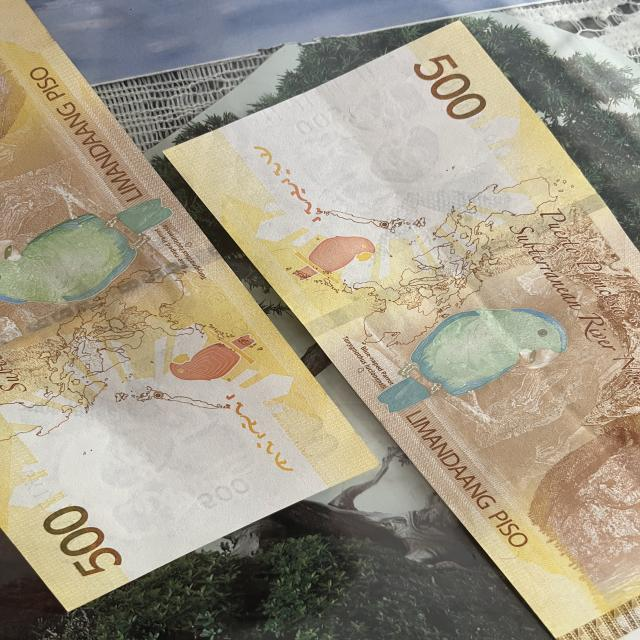500_big_parrot: (375, 304, 578, 413), (0, 198, 167, 308)
500_parrot_watermark: (166, 334, 255, 388), (291, 234, 383, 282)
value_watermark: (196, 474, 254, 511), (290, 105, 345, 136)
watermark: (54, 401, 268, 529), (286, 85, 464, 216)
